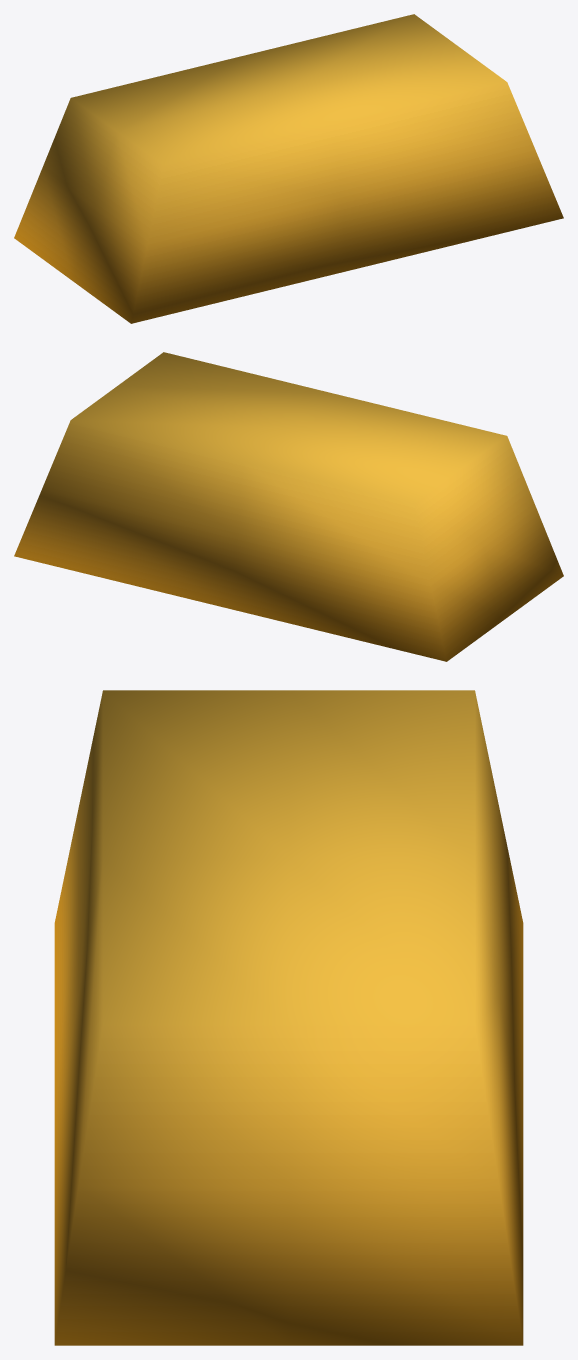
File: gold.glb
3 renders of one model, top to bottom at view 1: azimuth 30°, elevation 25°; view 2: azimuth 150°, elevation 25°; view 3: azimuth 270°, elevation 25°, orthographic. The views are drawn at different scales.
Visible parts, largest first — view 1: Gold; view 2: Gold; view 3: Gold.
Boxes of the visible parts, x1,y1,x2,y2 form: Gold: (14,14,563,323); Gold: (14,352,563,661); Gold: (54,690,523,1345).
Size of the model in its own units: 0.2935 by 0.0896 by 0.1376.
1 material, 1 textured.
